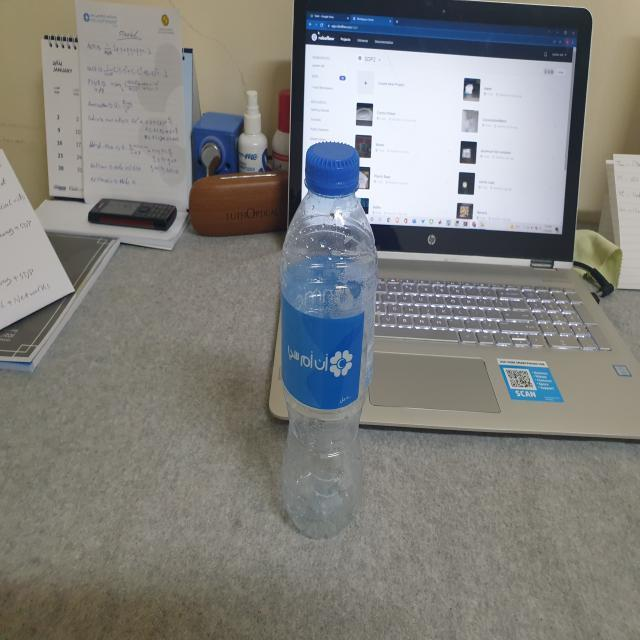plastic: (274, 143, 380, 539)
